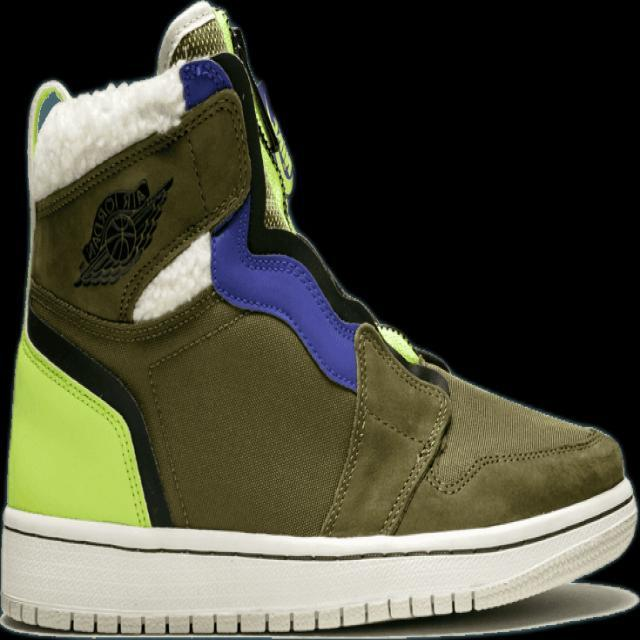J1_InsoleChar: (0, 0, 638, 638)
J1_ShoeLogo: (71, 174, 174, 288)
J1_StitchPattern: (2, 319, 635, 635), (1, 487, 637, 635), (318, 320, 602, 537), (1, 491, 637, 563), (160, 1, 299, 232), (317, 320, 453, 536), (21, 326, 154, 527), (1, 588, 481, 636), (318, 323, 376, 535), (428, 429, 602, 496), (376, 397, 452, 536), (166, 16, 230, 65), (373, 319, 422, 366)
